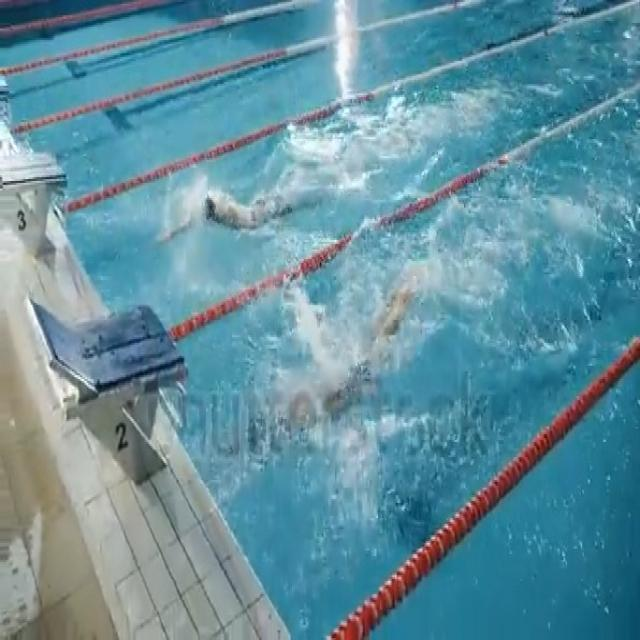swimming: (240, 223, 423, 493), (141, 183, 326, 256)
